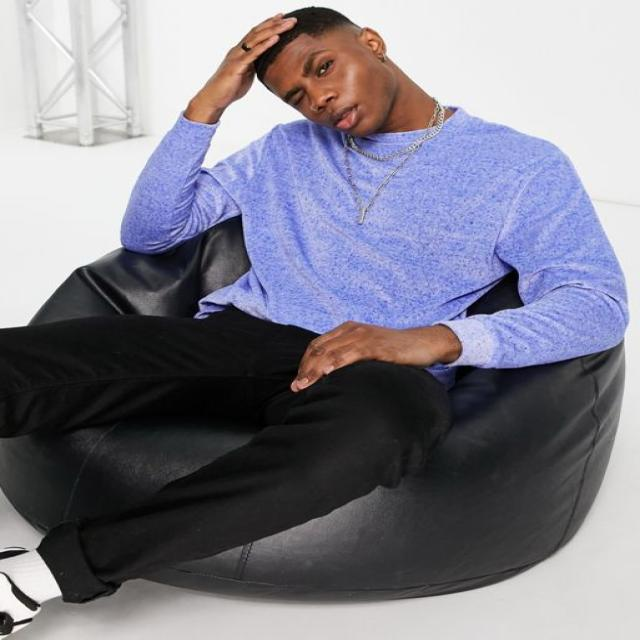tshirt: (120, 102, 628, 383)
